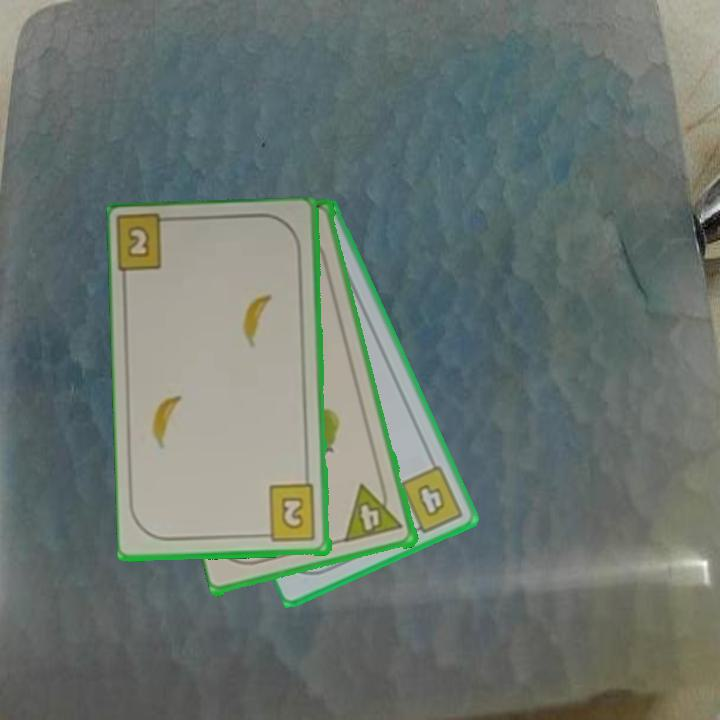2b: (116, 214, 181, 277), (258, 482, 319, 544)
4b: (397, 462, 467, 538)
4p: (341, 478, 406, 545)
